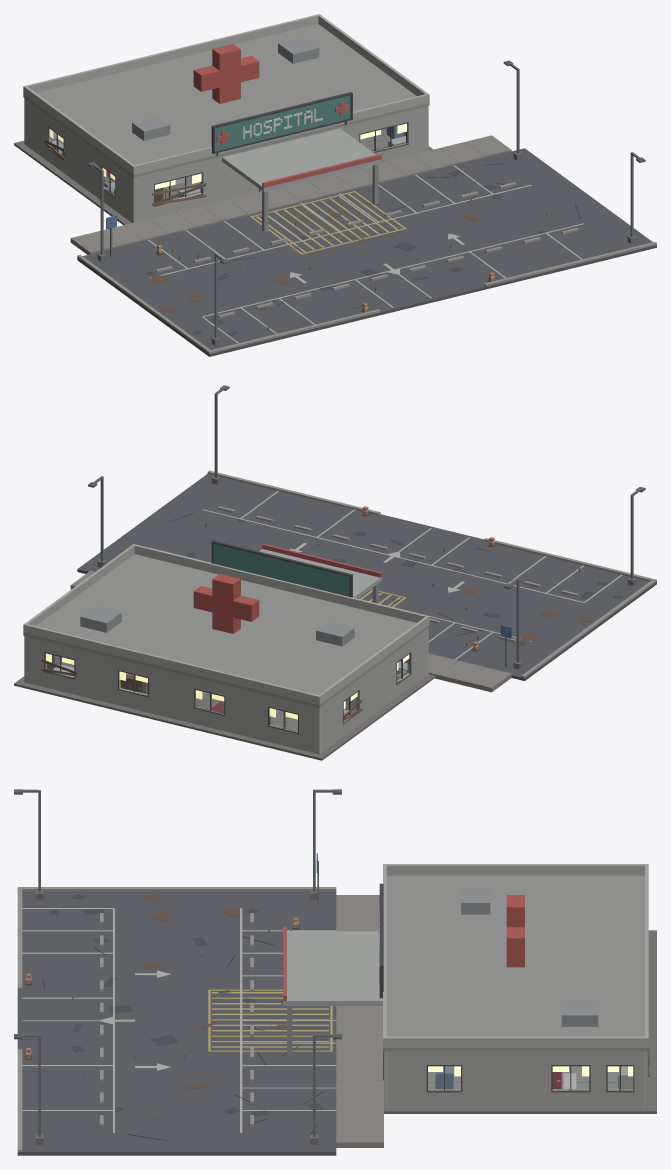
The model's file is predio_hospital.glb.
3 renders of one model, top to bottom at view 1: azimuth 30°, elevation 25°; view 2: azimuth 150°, elevation 25°; view 3: azimuth 270°, elevation 25°, orthographic. The views are drawn at different scales.
Visible parts, largest first — view 1: parking, roof, wall_south, canopy, walls_exterior, sign, roof_cross, floor, furniture, decor_grim, glass; view 2: parking, roof, walls_exterior, floor, sign, roof_cross, canopy, furniture, glass; view 3: parking, roof, walls_exterior, canopy, floor, roof_cross, furniture, sign.
Boxes of the visible parts, x1,y1,x2,y2 form: parking: (70,60,656,356); roof: (23,14,429,177); wall_south: (132,106,428,222); canopy: (222,128,382,231); walls_exterior: (24,98,405,222); sign: (211,92,352,156); roof_cross: (193,44,259,103); floor: (14,128,432,224); furniture: (51,126,405,201); decor_grim: (45,139,206,205); glass: (49,123,406,189); parking: (70,385,656,692); roof: (23,544,429,707); walls_exterior: (24,629,426,754); floor: (14,662,435,760); sign: (211,540,352,597); roof_cross: (193,574,259,633); canopy: (259,543,382,603); furniture: (47,655,407,730); glass: (46,653,409,719); parking: (14,789,383,1155); roof: (383,864,648,1051); walls_exterior: (387,1051,648,1107); canopy: (283,926,382,1054); floor: (384,930,656,1113); roof_cross: (506,895,524,967); furniture: (435,1066,633,1088); sign: (379,883,383,998).
Bounding box in the file's own units: 34 × 7.4 × 35.1.
